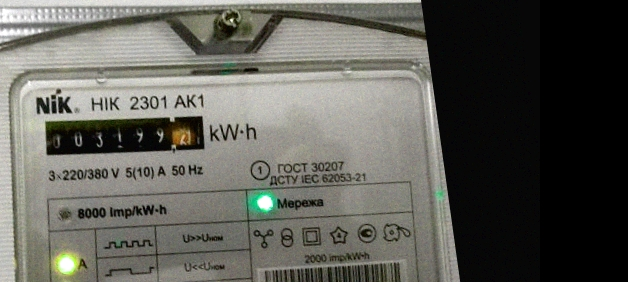0: (47, 129, 63, 150), (70, 127, 84, 148)
1: (112, 123, 124, 143)
3: (92, 129, 103, 149)
6: (176, 131, 188, 148)
9: (153, 125, 165, 144), (133, 124, 144, 143)
screen: (35, 94, 214, 178)
